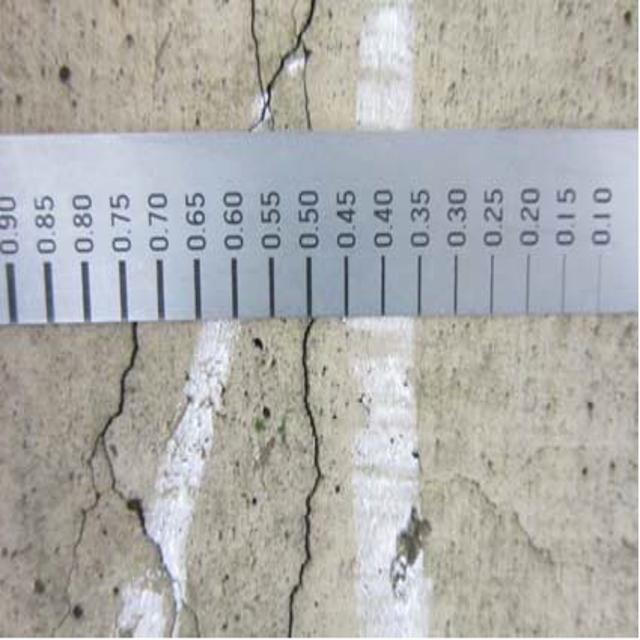crack: (53, 320, 187, 640), (269, 328, 331, 640), (243, 4, 327, 130)
